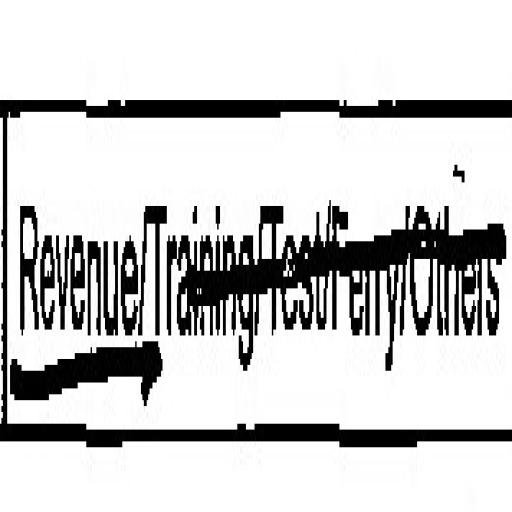check: (0, 30, 146, 486)
